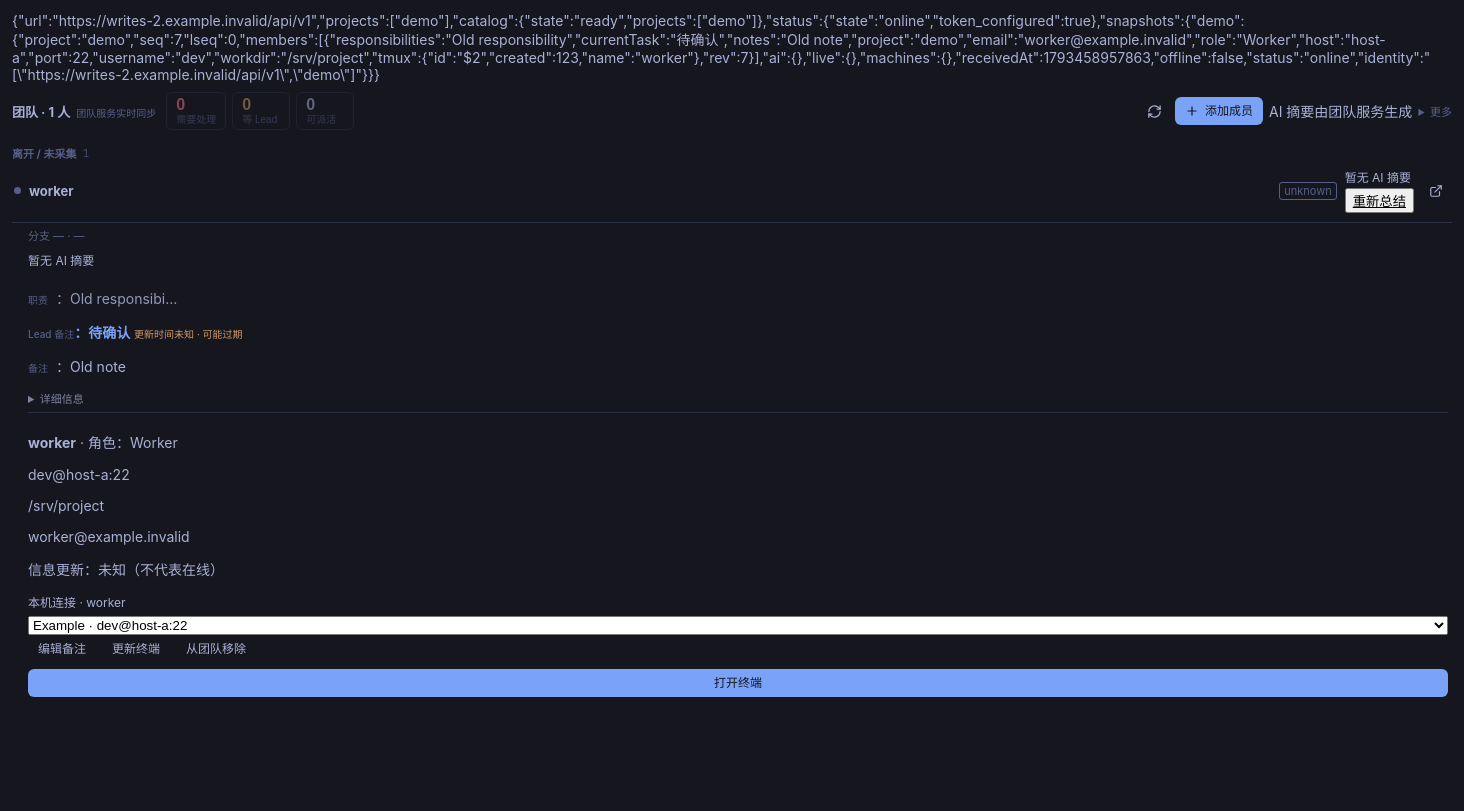
refreshes and refills on 412 rev_mismatch without retrying the write
The image size is (1464, 811).
Click the button with aria-label "编辑备注 · worker" at (62, 649), box [28,635,96,663]
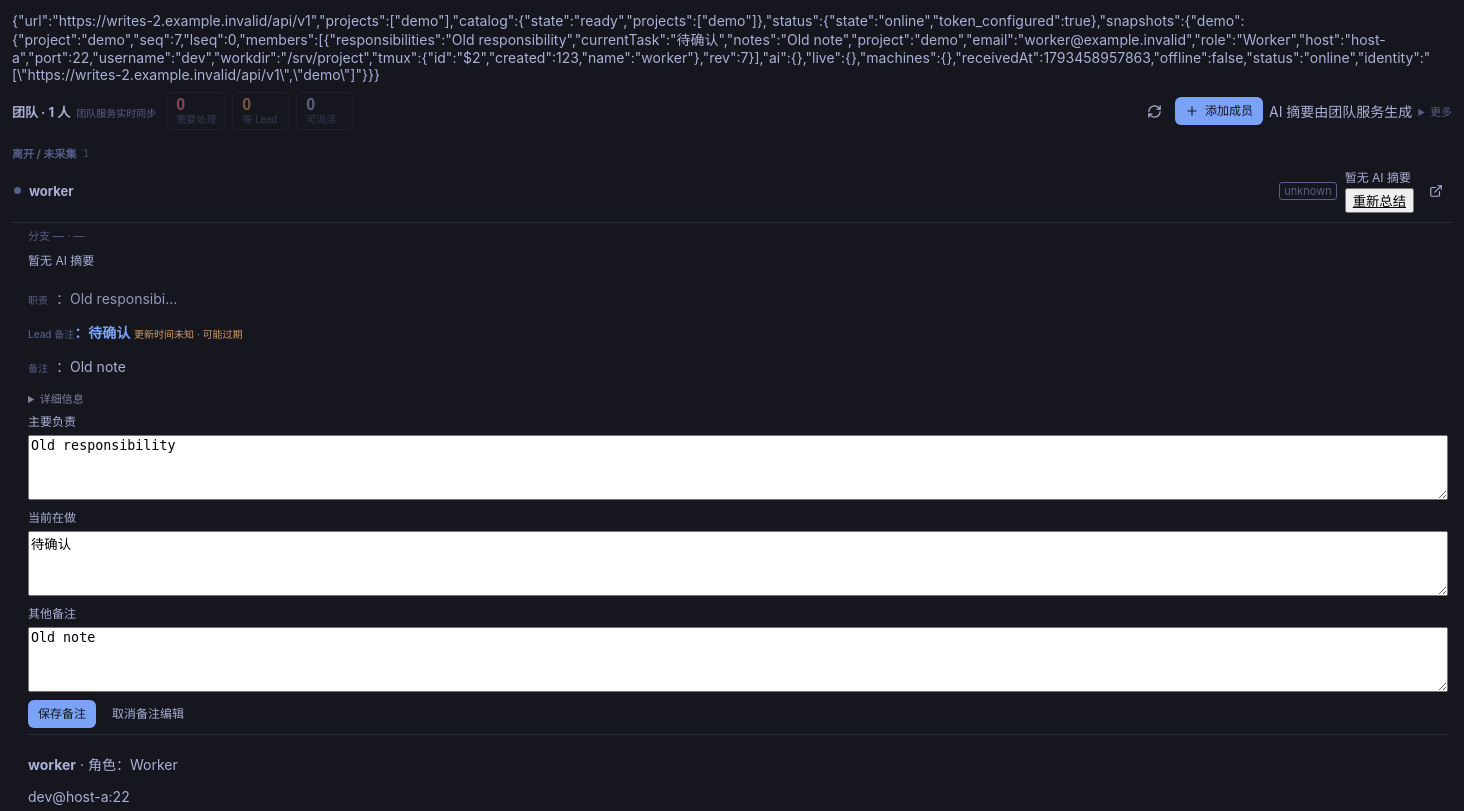
Replace the text in the text box labelled "其他备注" with "Stale draft" at (738, 660), box [28,627,1448,692]
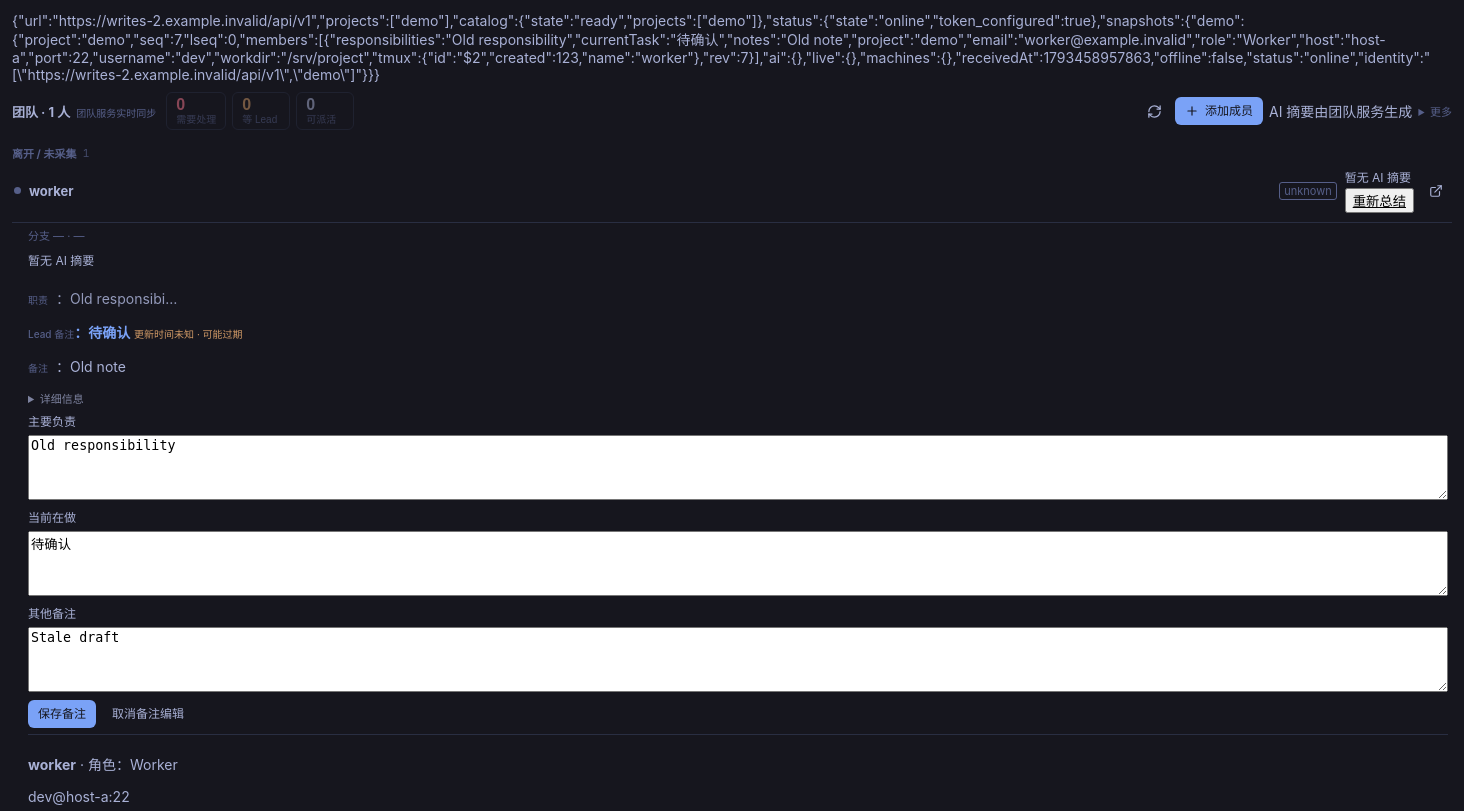
Click the button "保存备注" at (62, 714), box [28,700,96,728]
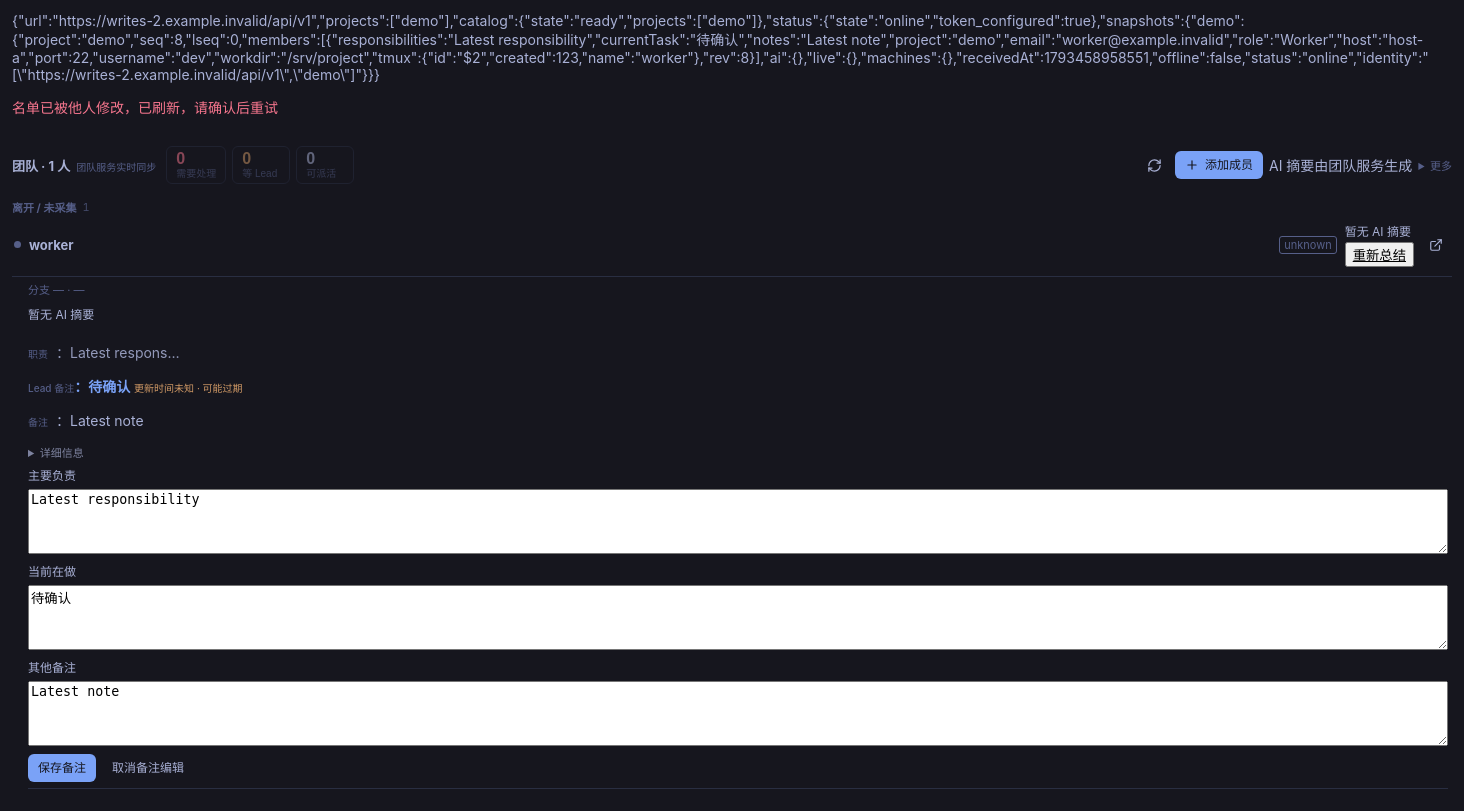
Expected: the text "名单已被他人修改，已刷新，请确认后重试" is shown, [12,99,278,116]
Expected: the text box labelled "其他备注" holds "Latest note", [28,681,1448,746]
